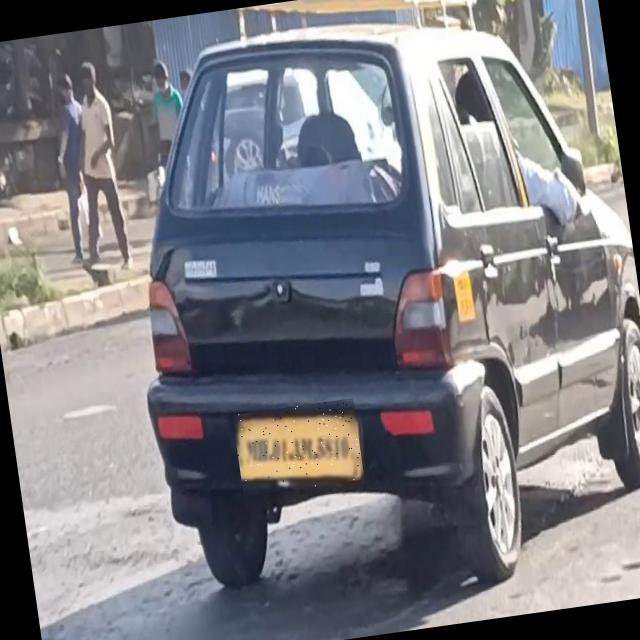Plate: (234, 399, 366, 497)
